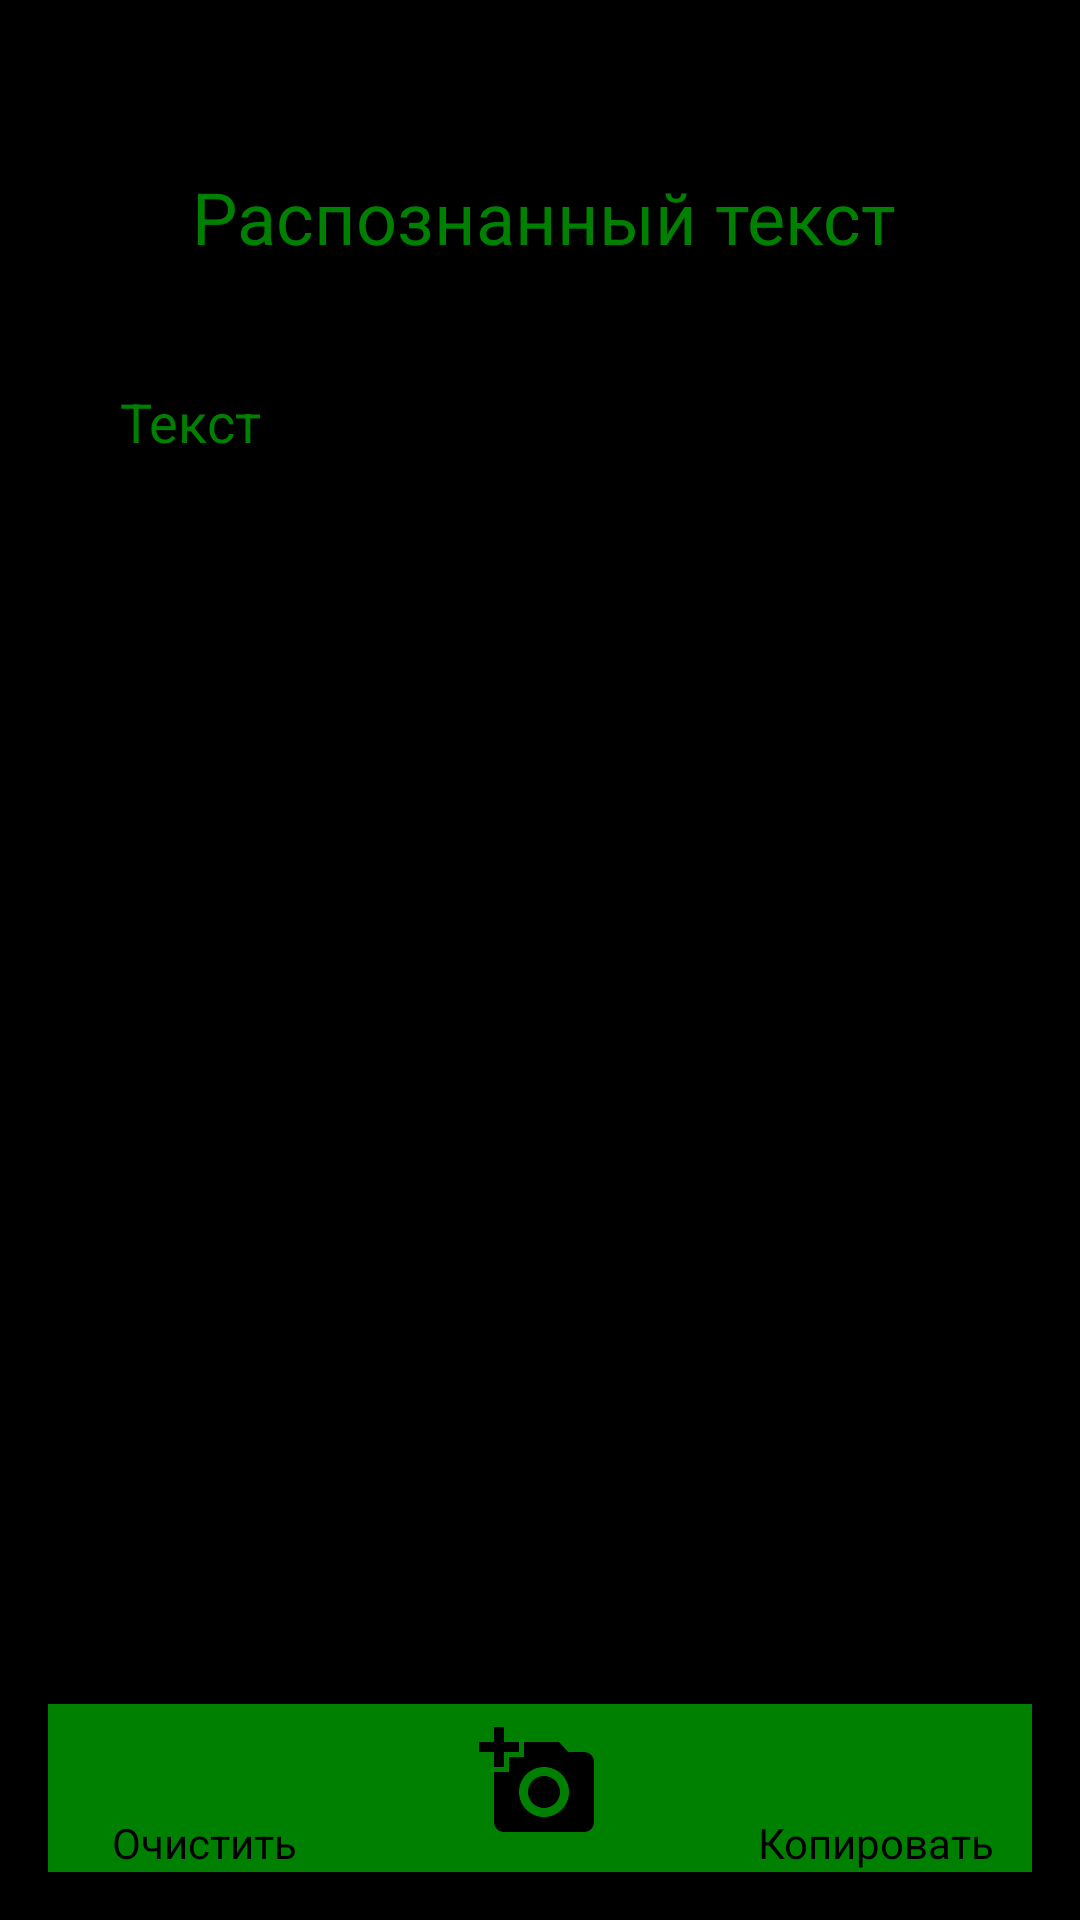

Screen size 1080px×1920px. Icon name, then its box in pixels as (x1, y1, x2, y2):
add photo: (479, 1727, 594, 1832)
